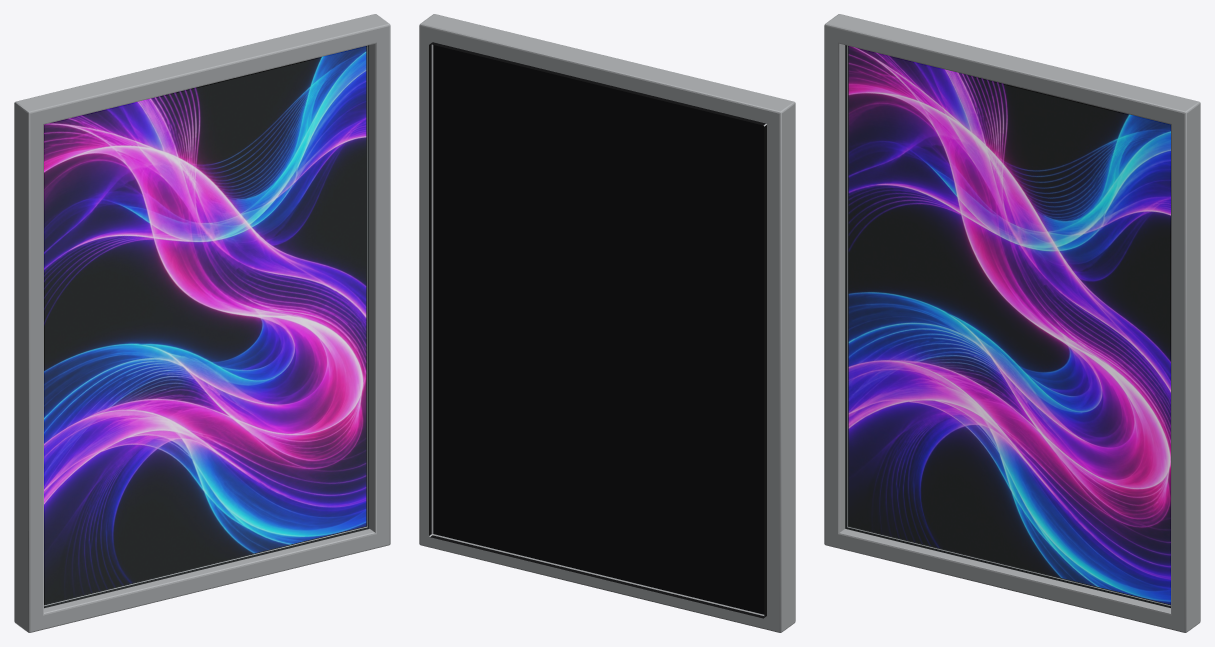
The model's file is gteki_poster_lightbox_08.glb.
The picture shows the model from 3 angles, left to right: view 1: azimuth 30°, elevation 25°; view 2: azimuth 150°, elevation 25°; view 3: azimuth 330°, elevation 25°; orthographic projection.
Parts seen in each view (by area): view 1: VIS_glass, VIS_faces, VIS_frame; view 2: VIS_frame; view 3: VIS_glass, VIS_faces, VIS_frame.
Boxes of the visible parts, bbox=[...] form: VIS_glass: bbox=[45, 46, 369, 606]; VIS_faces: bbox=[44, 46, 366, 604]; VIS_frame: bbox=[14, 14, 390, 632]; VIS_frame: bbox=[419, 14, 795, 632]; VIS_glass: bbox=[845, 46, 1169, 606]; VIS_faces: bbox=[848, 46, 1170, 604]; VIS_frame: bbox=[824, 14, 1200, 632].
Size of what is drawn, in the model's own units: 0.8 by 1.1 by 0.07.
4 materials, 1 textured.
